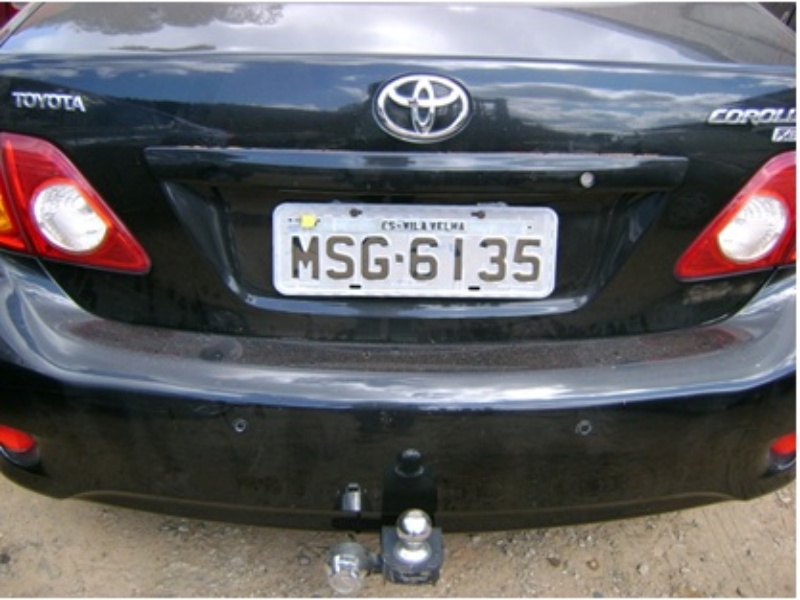placa: (269, 195, 566, 305)
